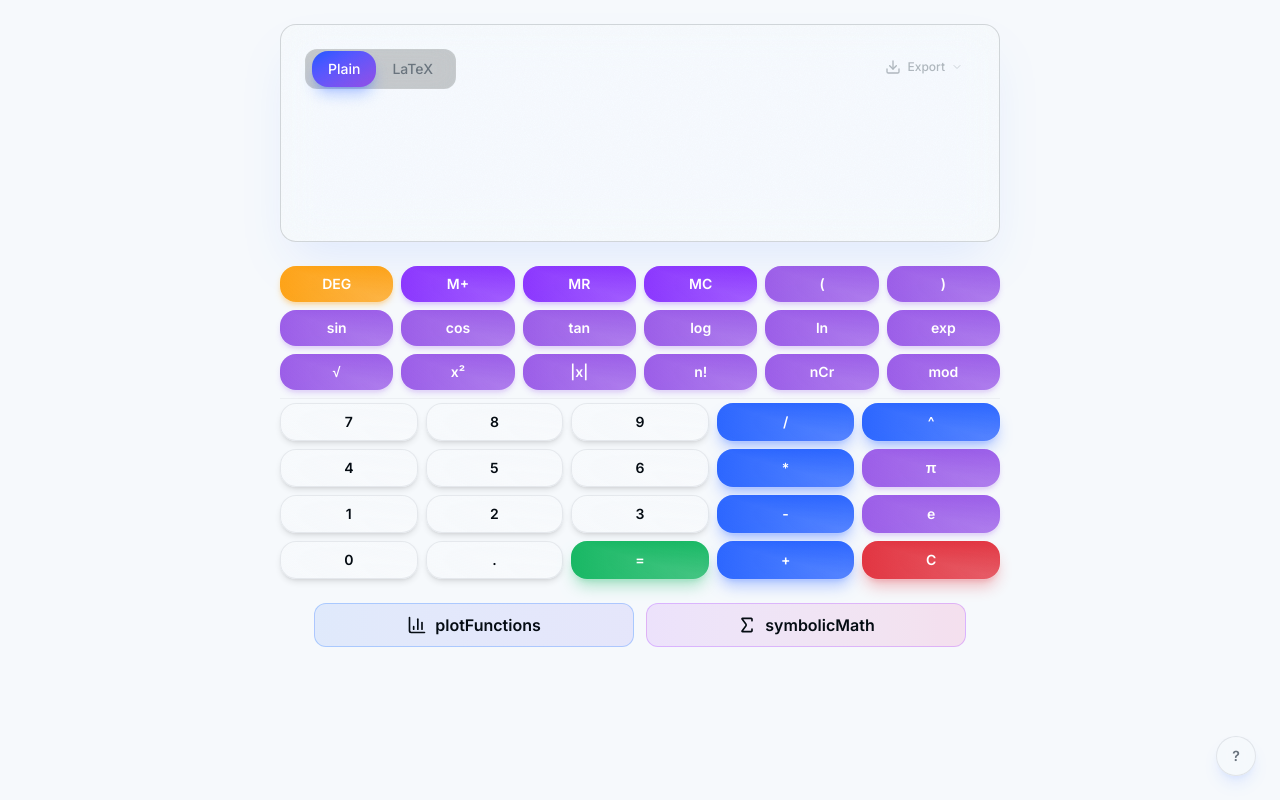
Calculator Component › handles number input
# Click number buttons — digit aria-labels are just the digit
Click the cell "2" at (494, 514), box [426,495,563,533]
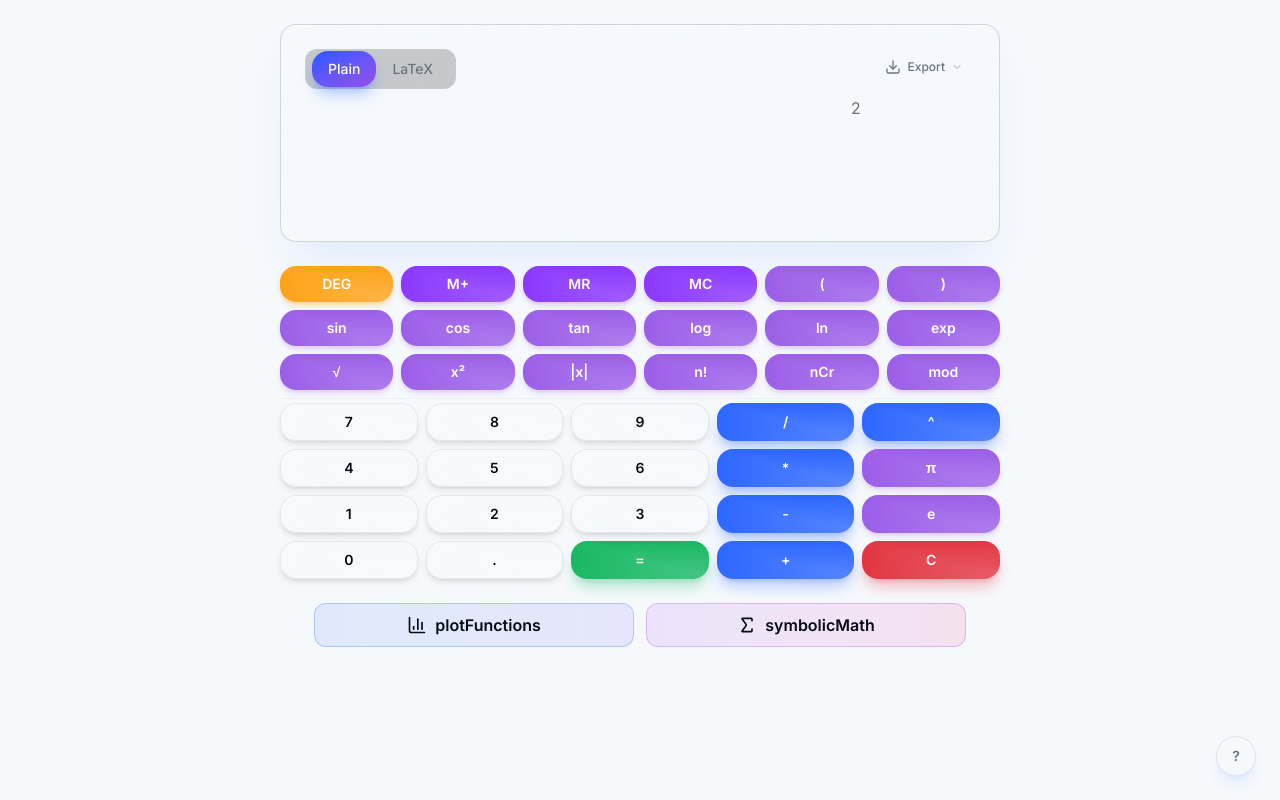
Result: the message named "current expression" reads "2" at [851,98,862,119]
